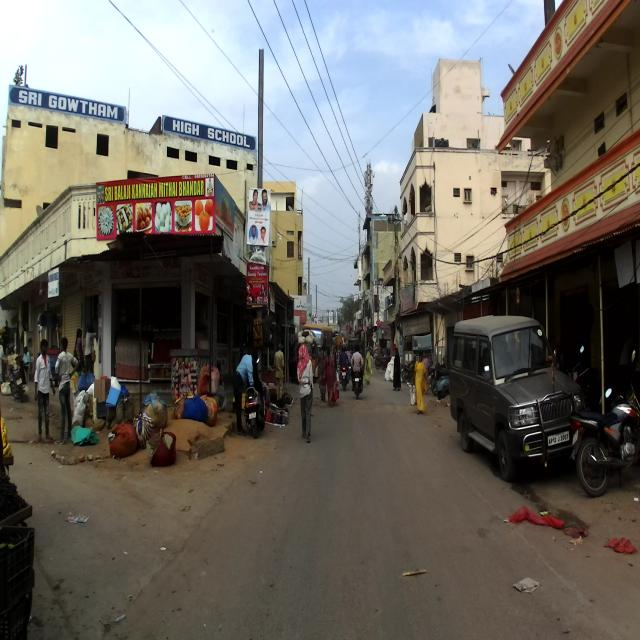car ahead at: (444, 313, 584, 482)
motorcycle ahead at: (574, 366, 638, 495)
